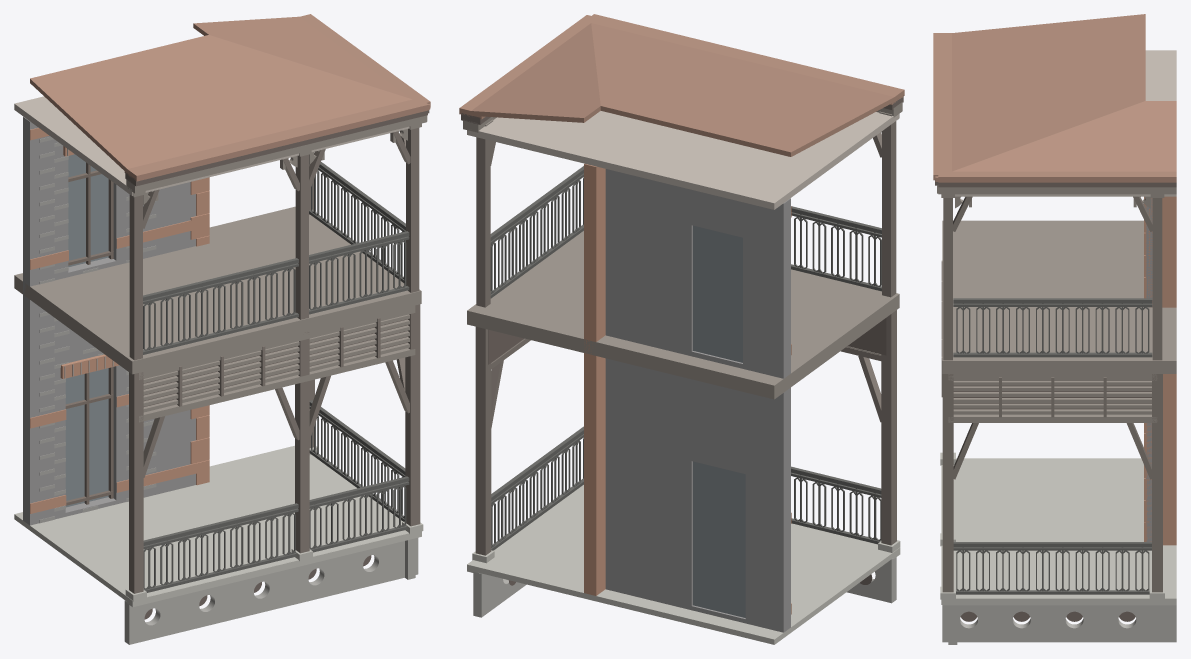
The model's file is jingan-xiong-foxi-building-corner-veranda-raw.glb.
The picture shows the model from 3 angles, left to right: view 1: azimuth 30°, elevation 25°; view 2: azimuth 150°, elevation 25°; view 3: azimuth 270°, elevation 25°; orthographic projection. The views are drawn at different scales.
Visible parts, largest first — view 1: 熊佛西楼东南转角双层木围廊; view 2: 熊佛西楼东南转角双层木围廊; view 3: 熊佛西楼东南转角双层木围廊.
Part boxes in pixels (bbox=[...]): 熊佛西楼东南转角双层木围廊: bbox=[14, 14, 430, 644]; 熊佛西楼东南转角双层木围廊: bbox=[459, 14, 904, 644]; 熊佛西楼东南转角双层木围廊: bbox=[933, 14, 1176, 644].
Bounding box in the file's own units: 5.48 × 8.72 × 3.92.
